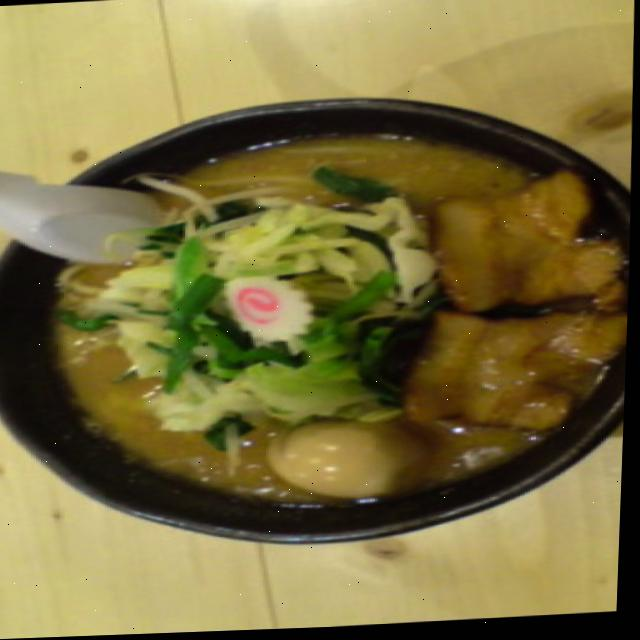面条主食: (0, 79, 637, 560)
